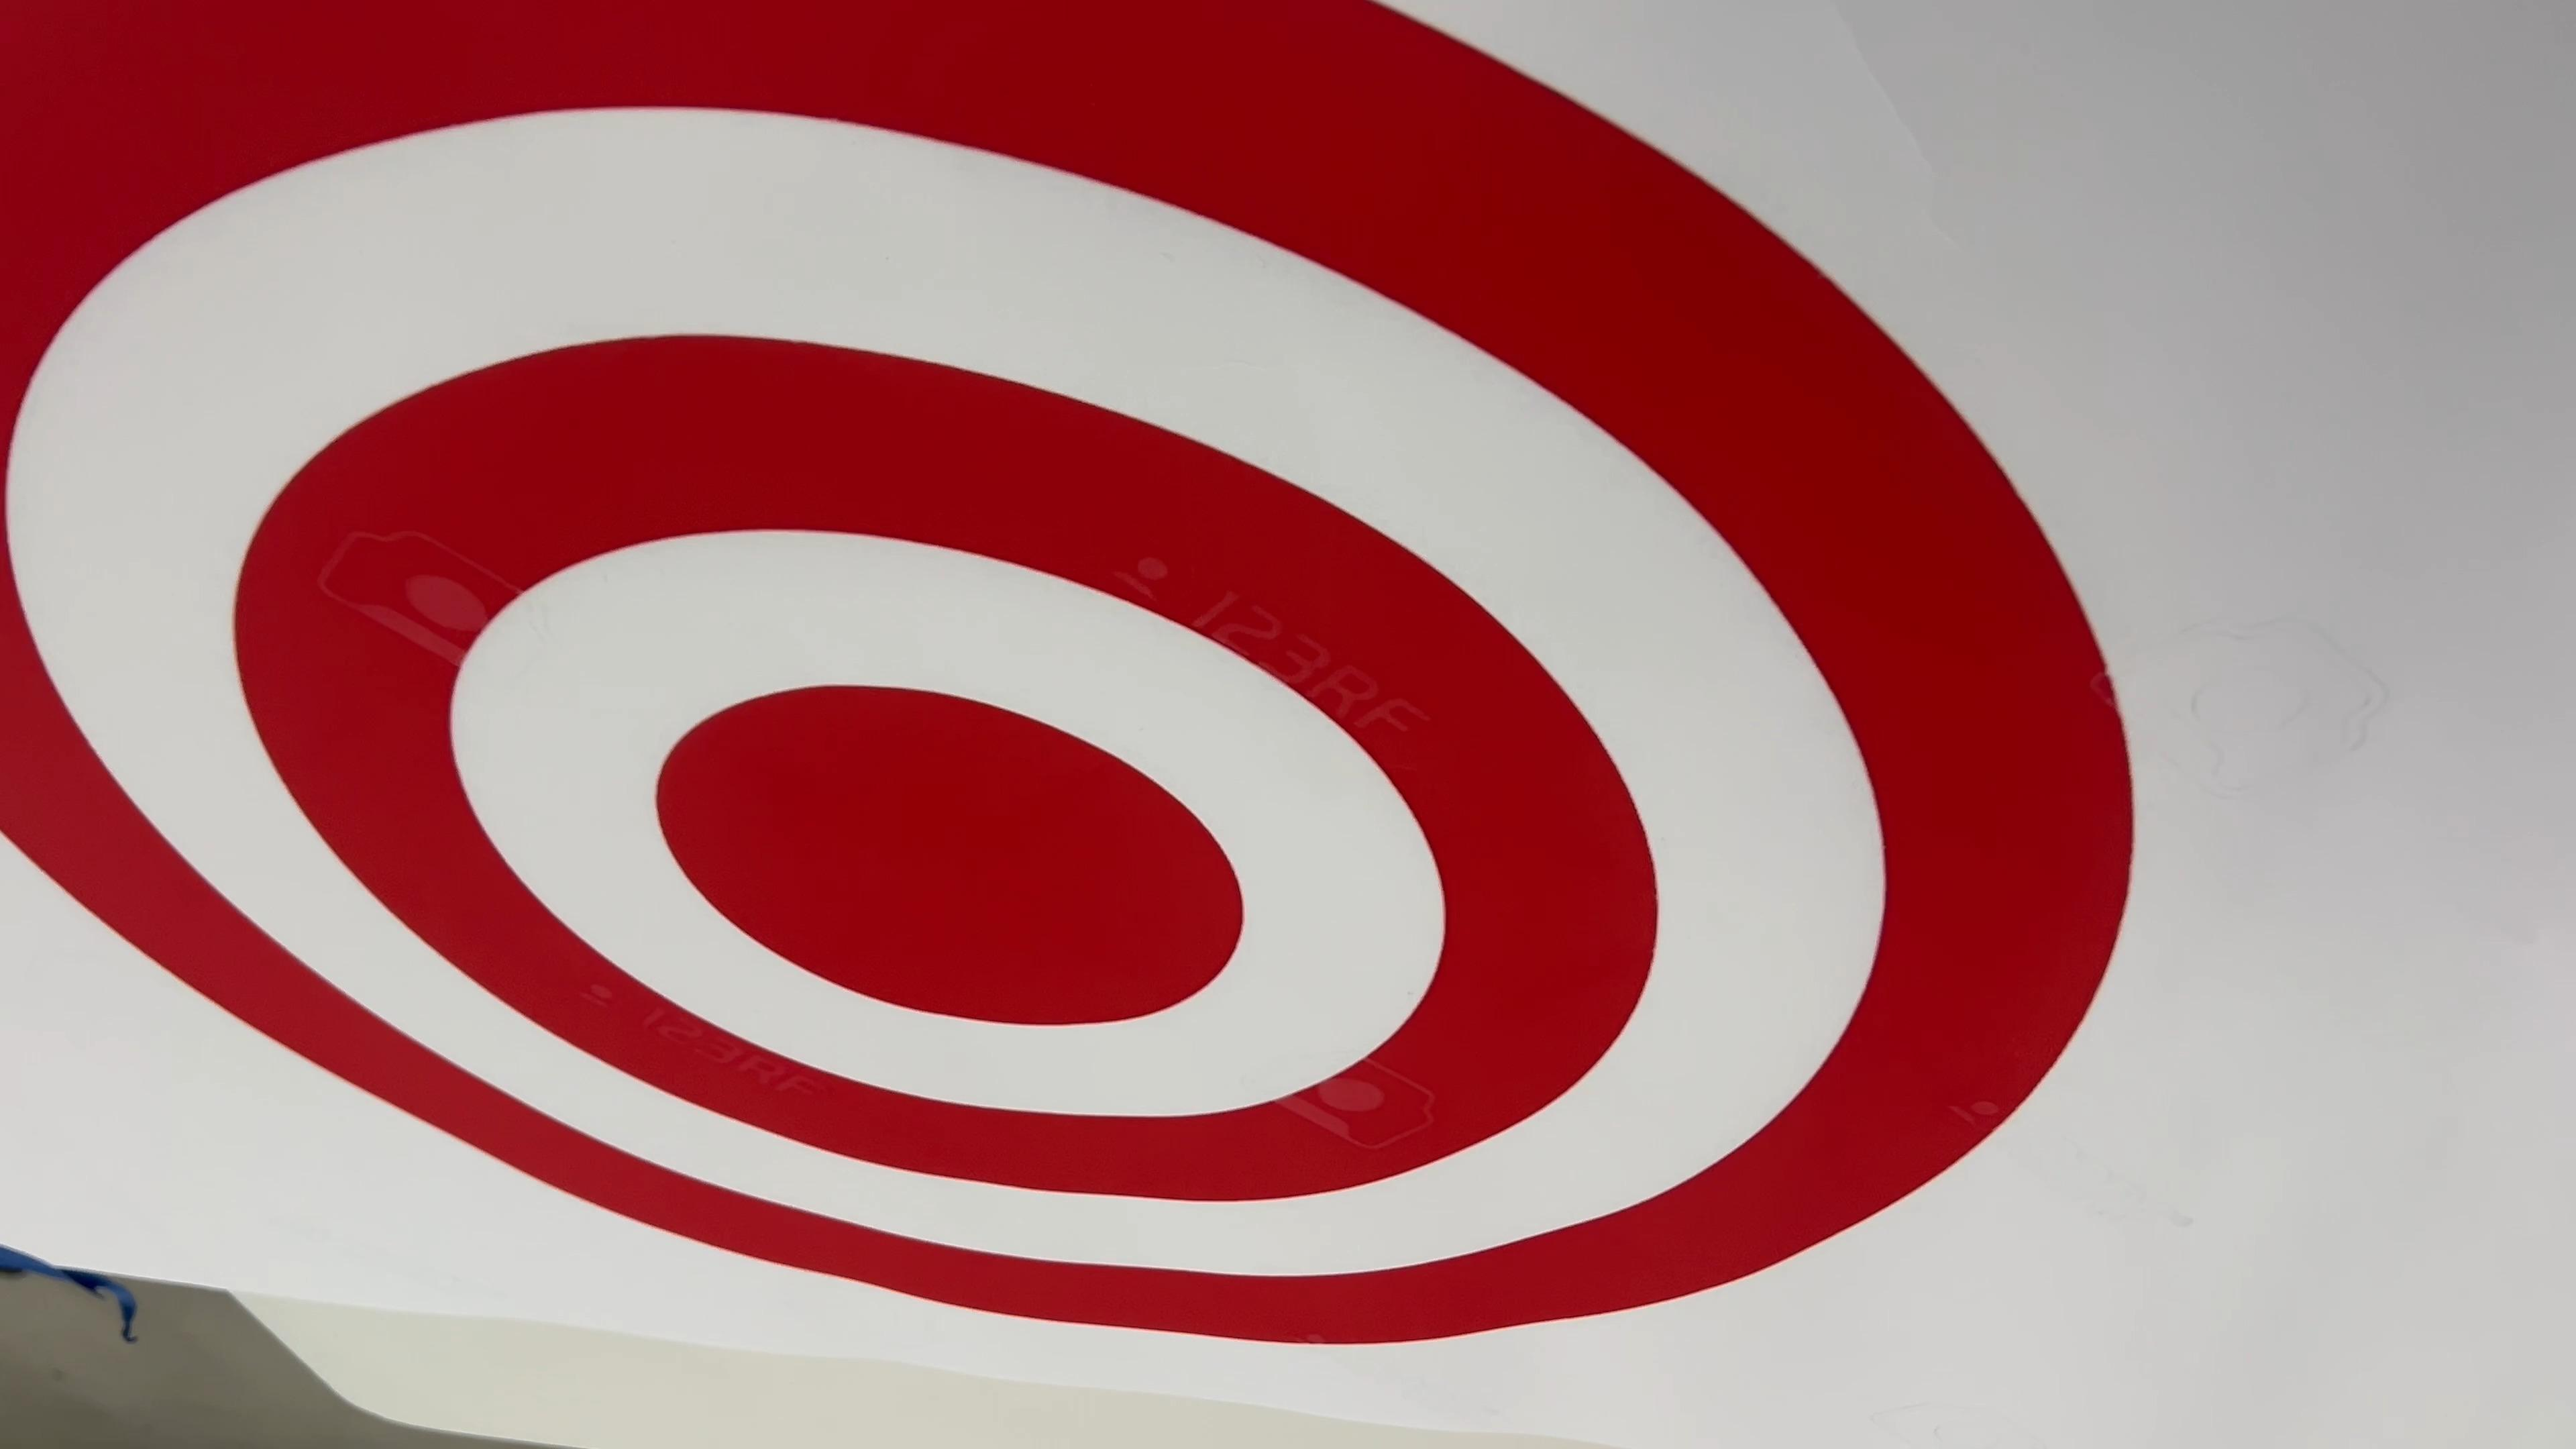target_red: (0, 0, 2196, 1391)
